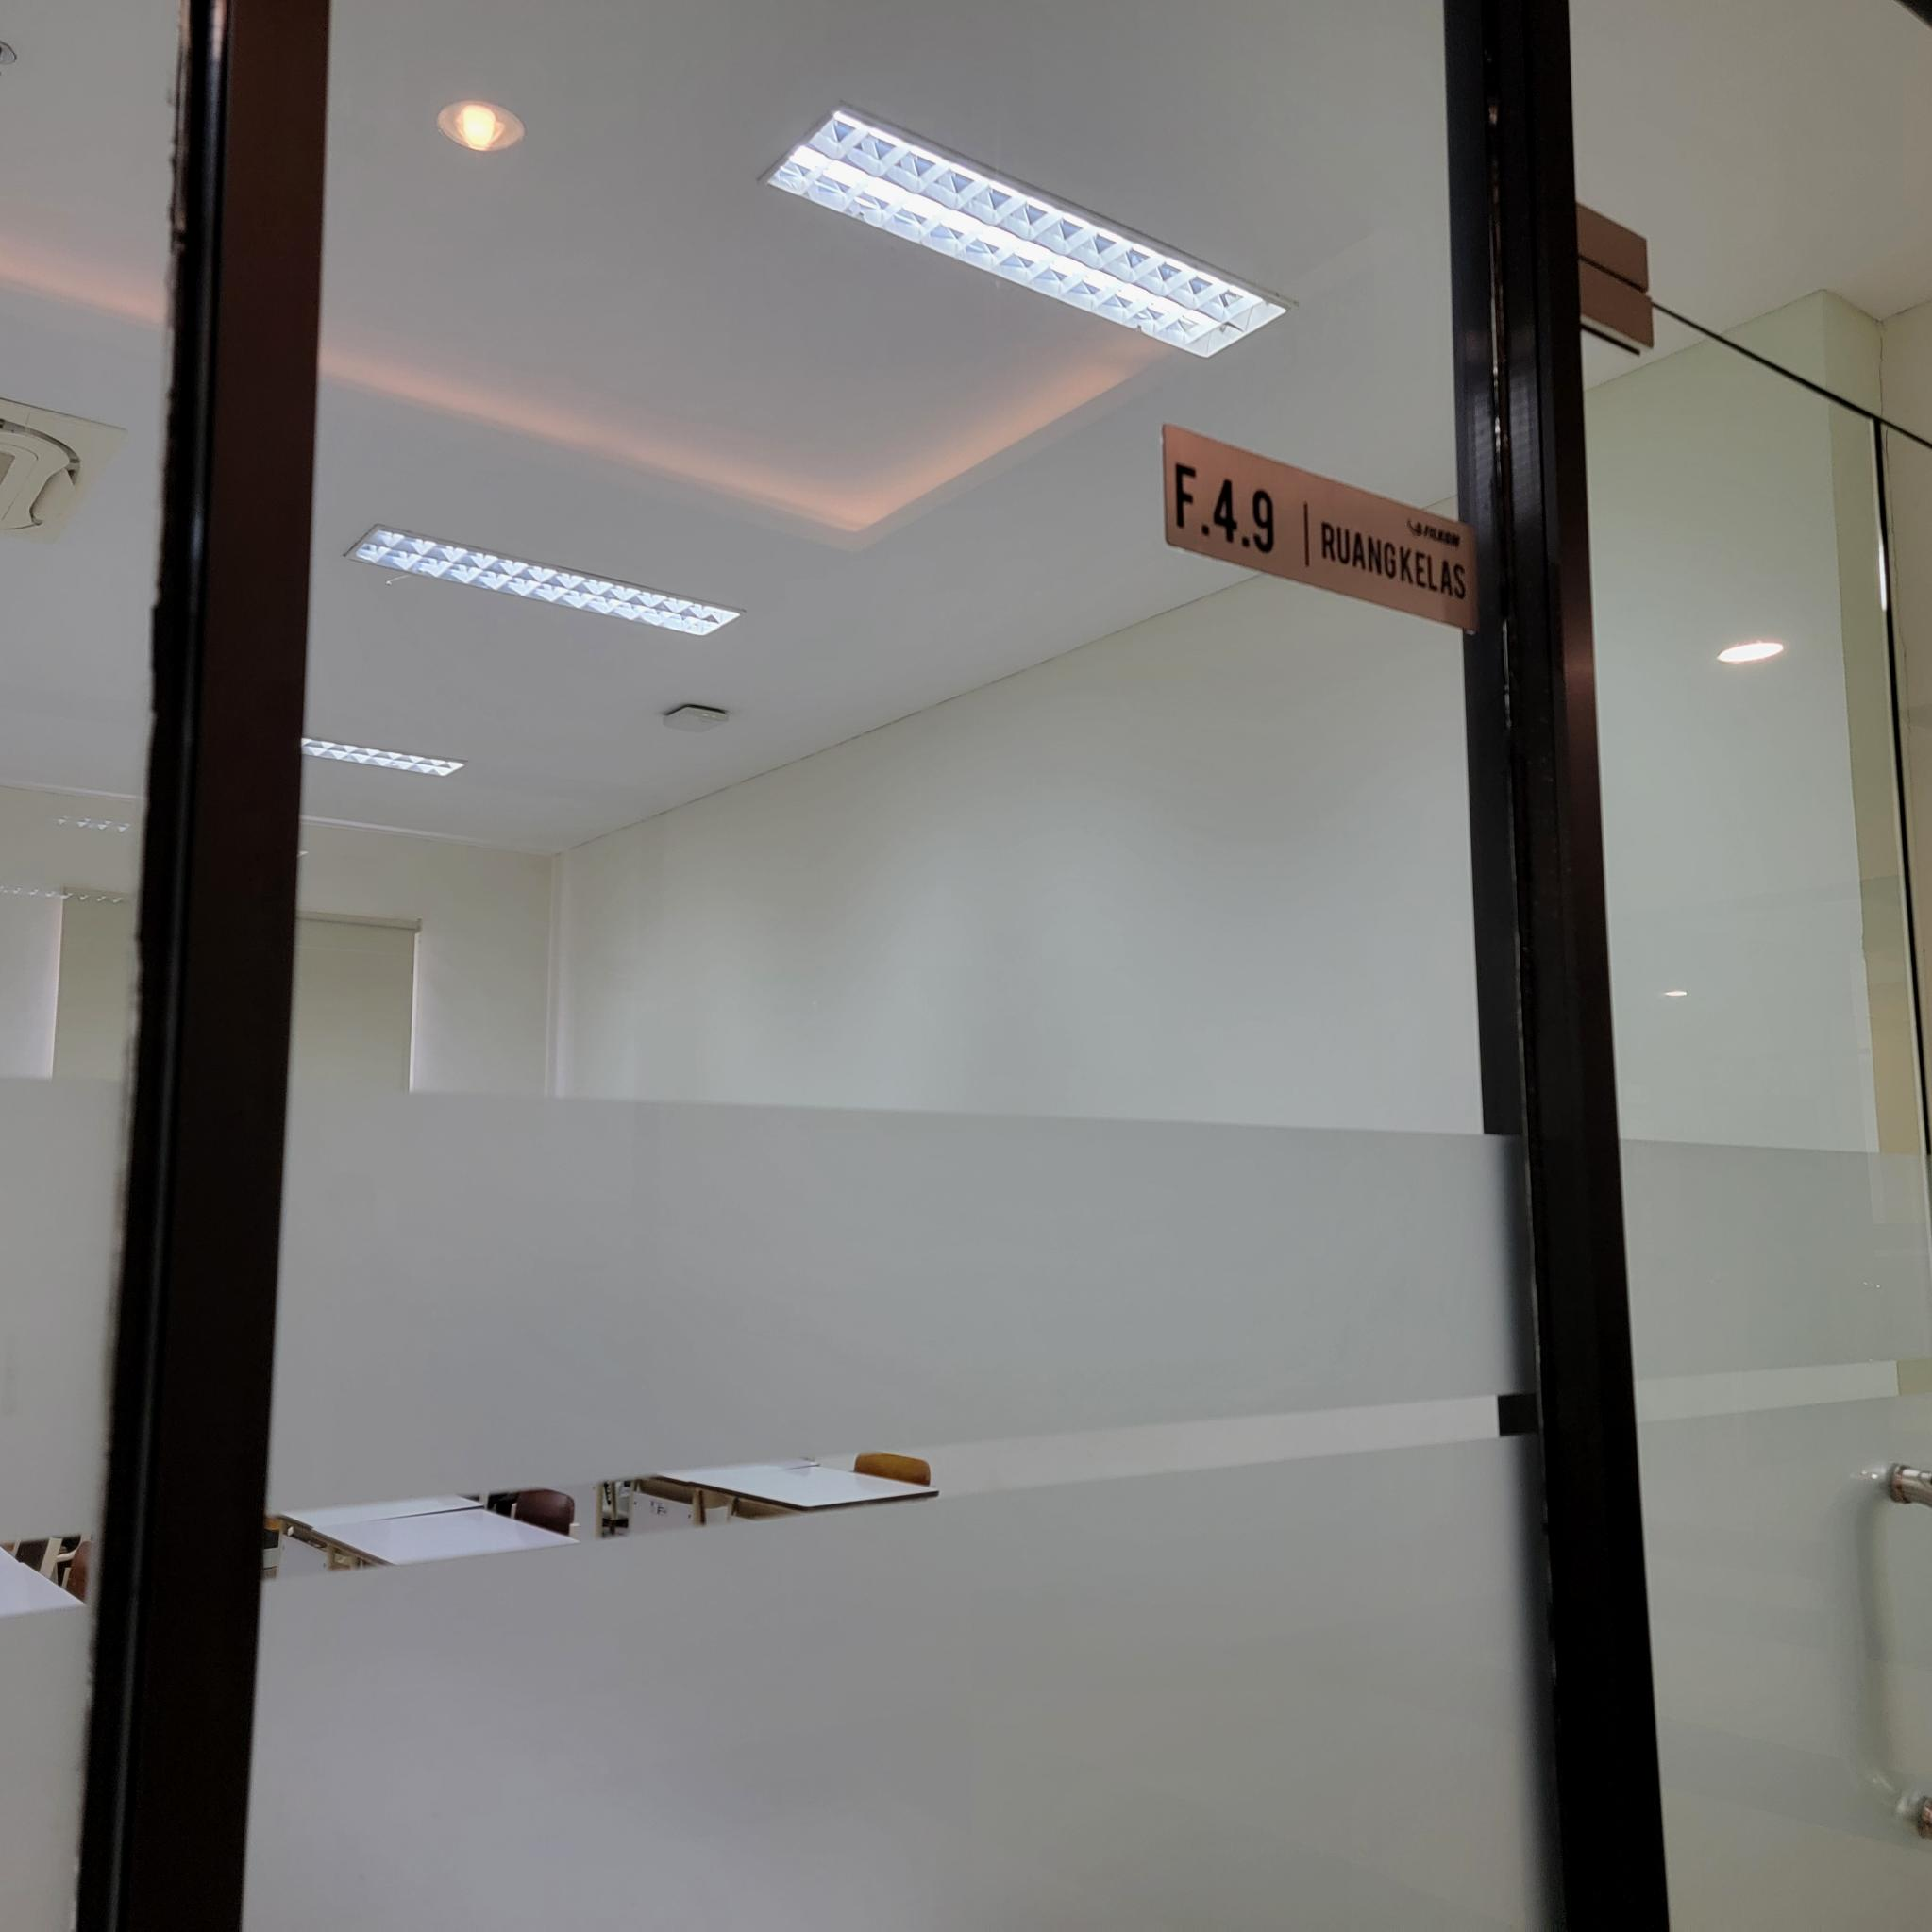plate: (1164, 423, 1481, 633)
